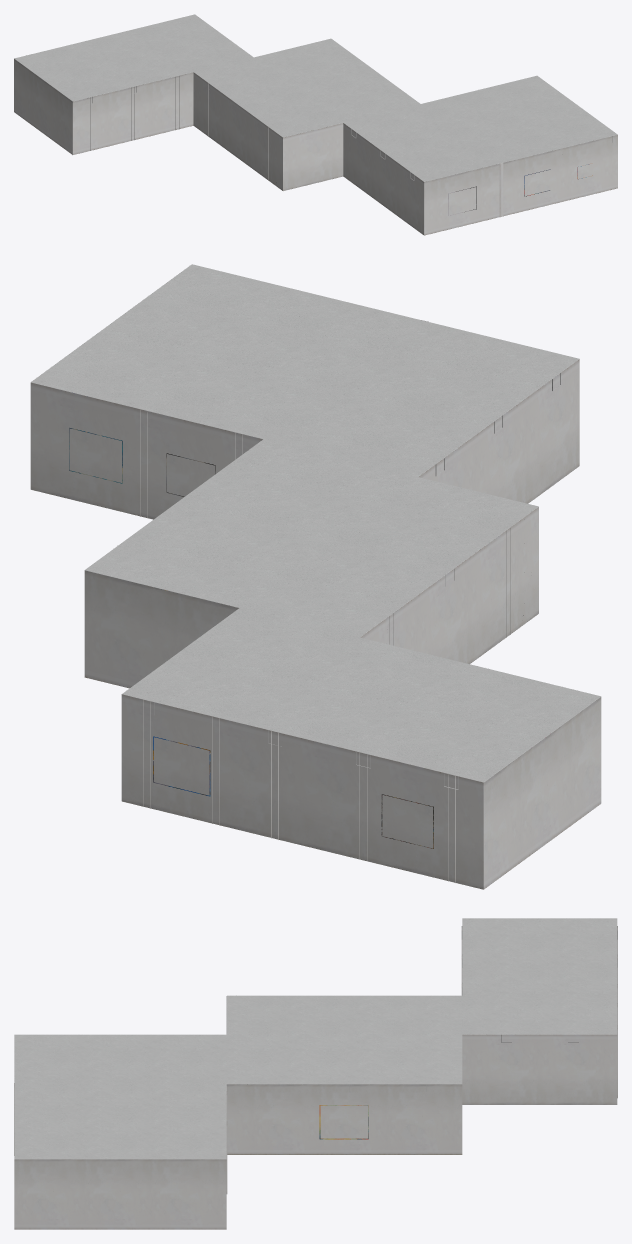
File: room.gltf
3 views of the same model, one above another, from view 1: azimuth 30°, elevation 25°; view 2: azimuth 150°, elevation 25°; view 3: azimuth 270°, elevation 25° (orthographic). The views are drawn at different scales.
Parts seen in each view (by area): view 1: Room; view 2: Room; view 3: Room.
Part boxes in pixels (left/top/right/bottom): Room: left=14, top=14, right=617, bottom=235; Room: left=30, top=264, right=601, bottom=889; Room: left=14, top=918, right=617, bottom=1229.
Bounding box in the file's own units: 20.53 × 2.81 × 21.76.
Materials: 25 (21 with a texture image).
